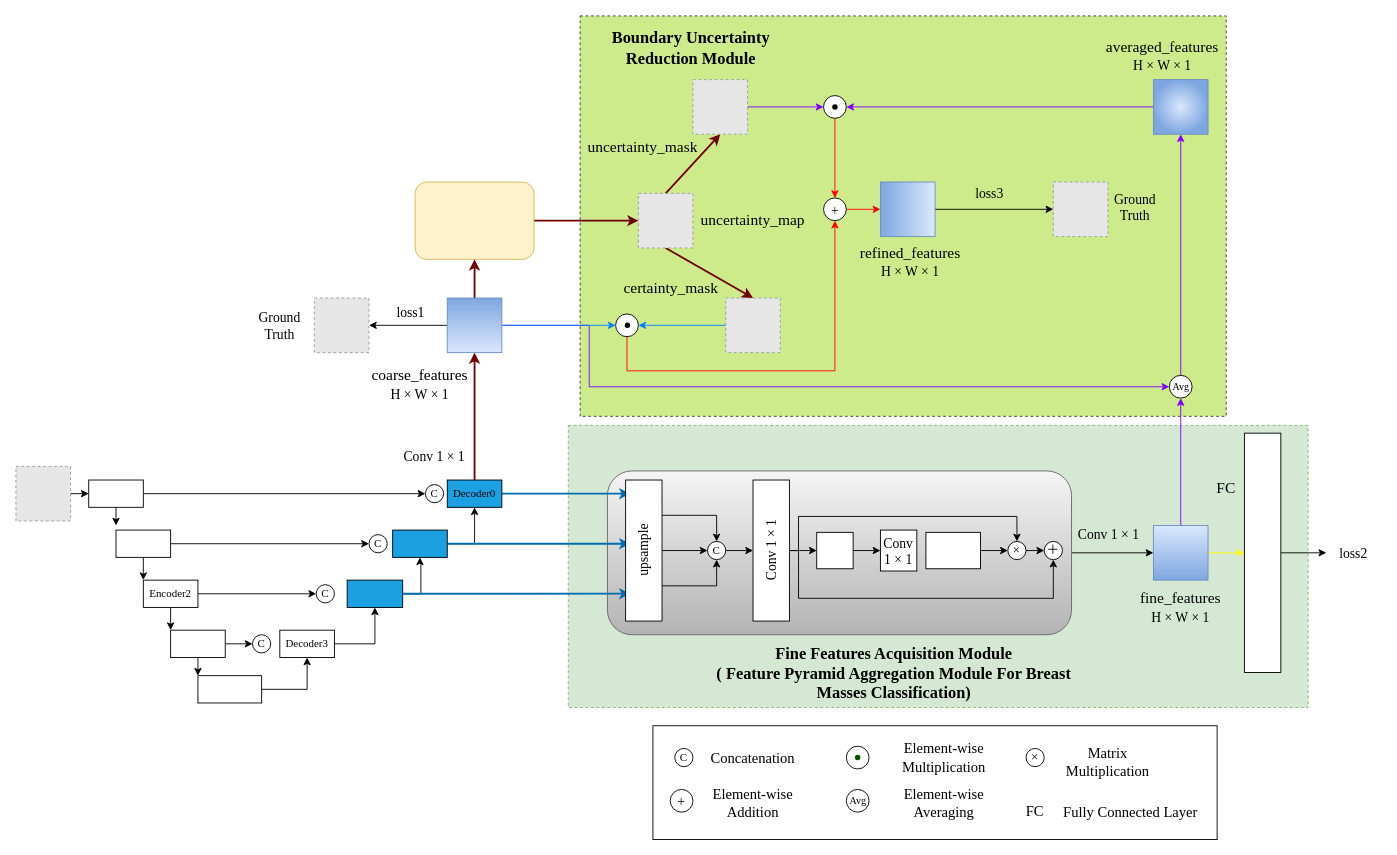
This 1397x855 diagram has some shape labels left out. Grey dashed boxes stand in for pictures. The centre of each missing label's shape, as x and y in pixels:
"BottleNeck" belongs at (229,689).
"Boundary Uncertainty Locating Module" belongs at (474,220).
"Decoder1" belongs at (419,543).
"Decoder2" belongs at (374,593).
"Encoder0" belongs at (115,493).
"Encoder1" belongs at (143,543).
"Encoder3" belongs at (197,643).
"GAP" belongs at (834,550).
"Label: 0 (Benign) or 1 (Malignant)" belongs at (1262,552).
"Sigmoid" belongs at (953,550).
